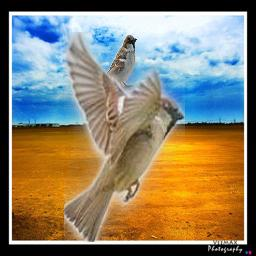Sparrow: (64, 32, 185, 242), (96, 35, 137, 91)
